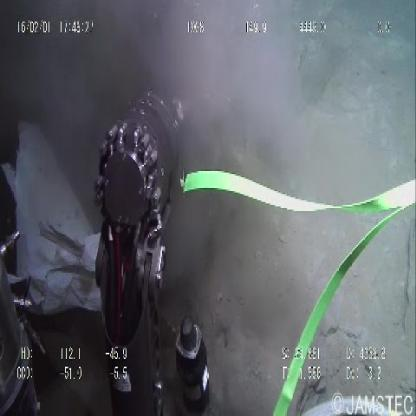Rov: (91, 83, 211, 408)
Rác: (2, 122, 105, 319)
